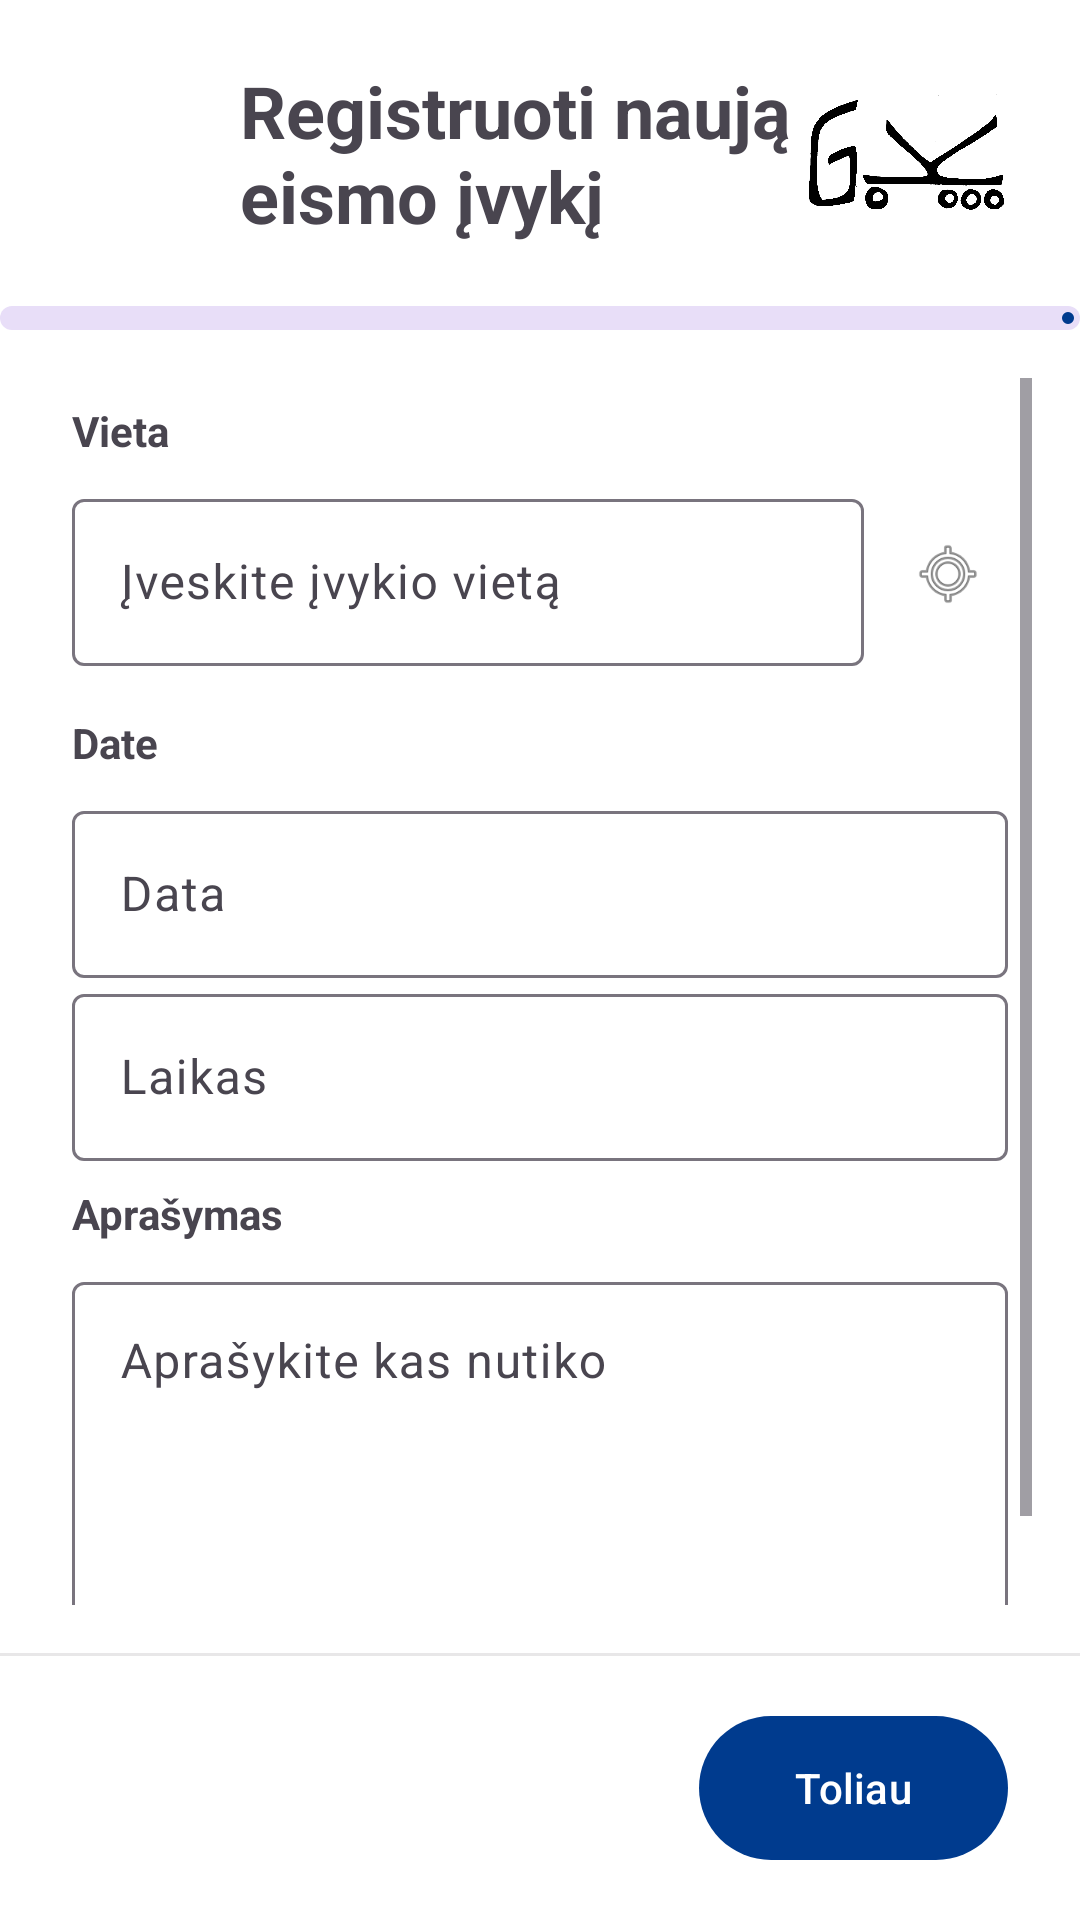

Where icons sit on this 1080*1920 app screen, as (x1, y1, x2, y2):
Užpildyti įvykio vietą pagal GPS: (919, 545, 977, 603)
